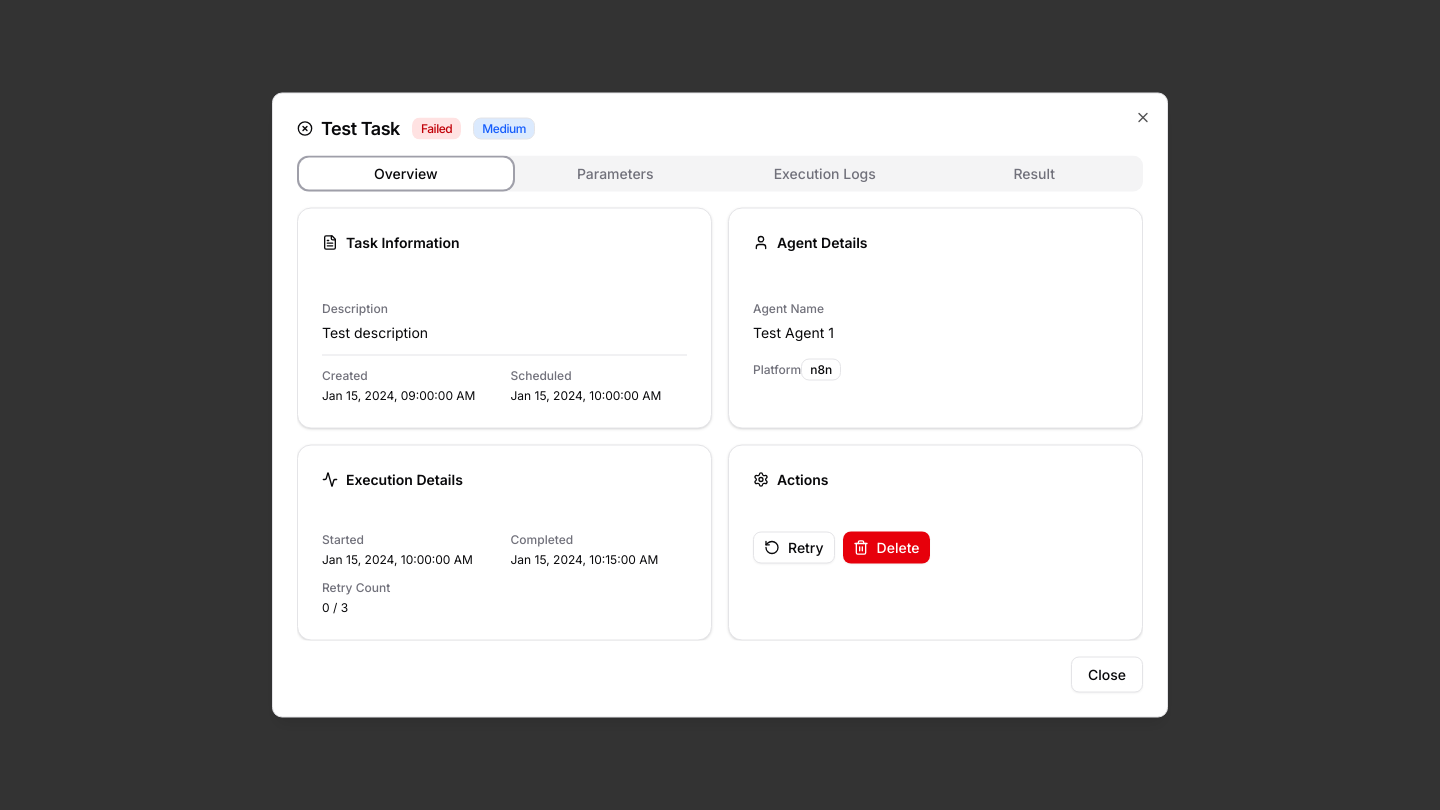
Test case: TaskDetailModal › displays execution logs for failed task
Click the tab "Execution Logs" at (825, 174), box [720,160,930,188]
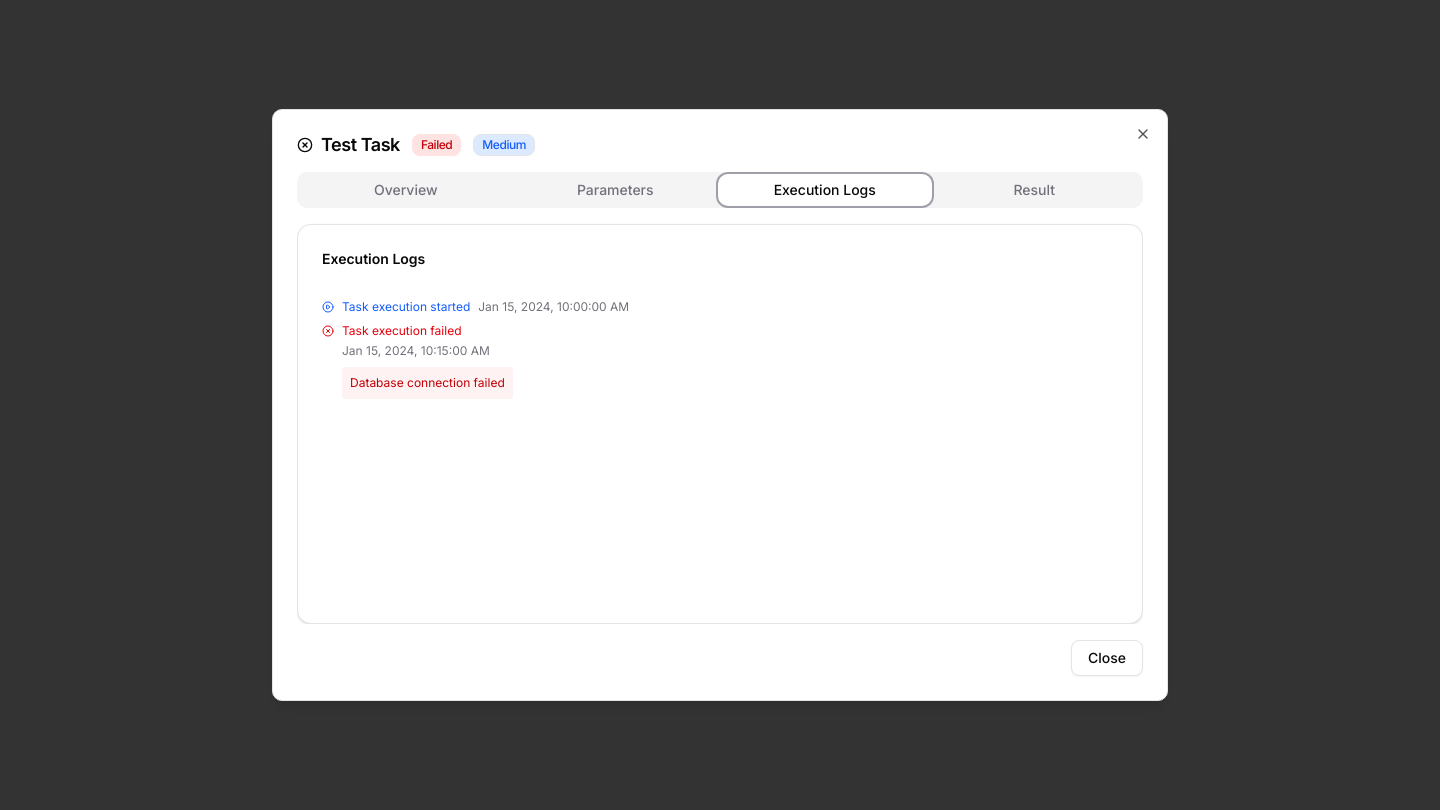
Expected: the text "Task execution started" is shown, [342,299,470,315]
Expected: the text "Task execution failed" is shown, [342,323,462,338]
Expected: the text "Database connection failed" is shown, [342,367,513,399]
